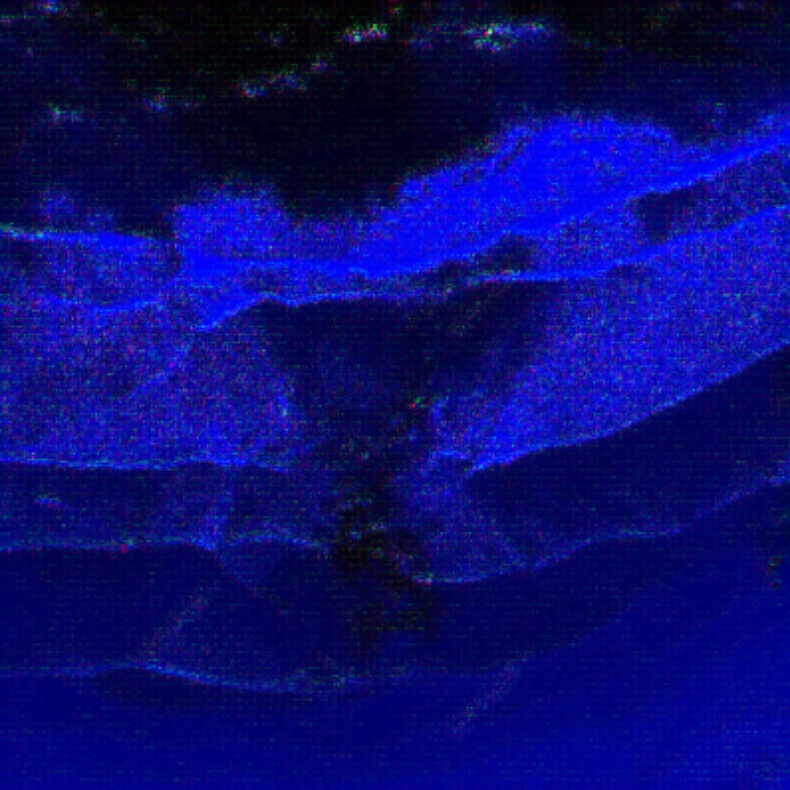rip_current: (234, 112, 559, 625)
